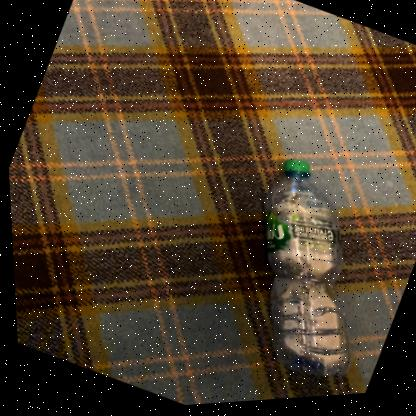Plastic: (261, 163, 345, 379)
